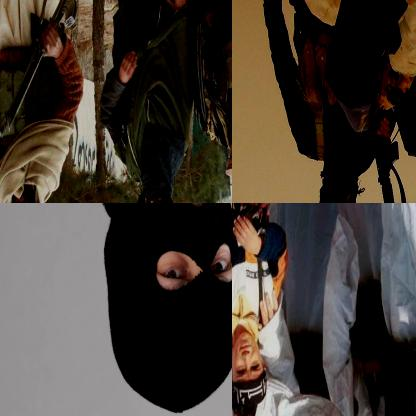rifle: (0, 0, 103, 140), (368, 126, 415, 202)
